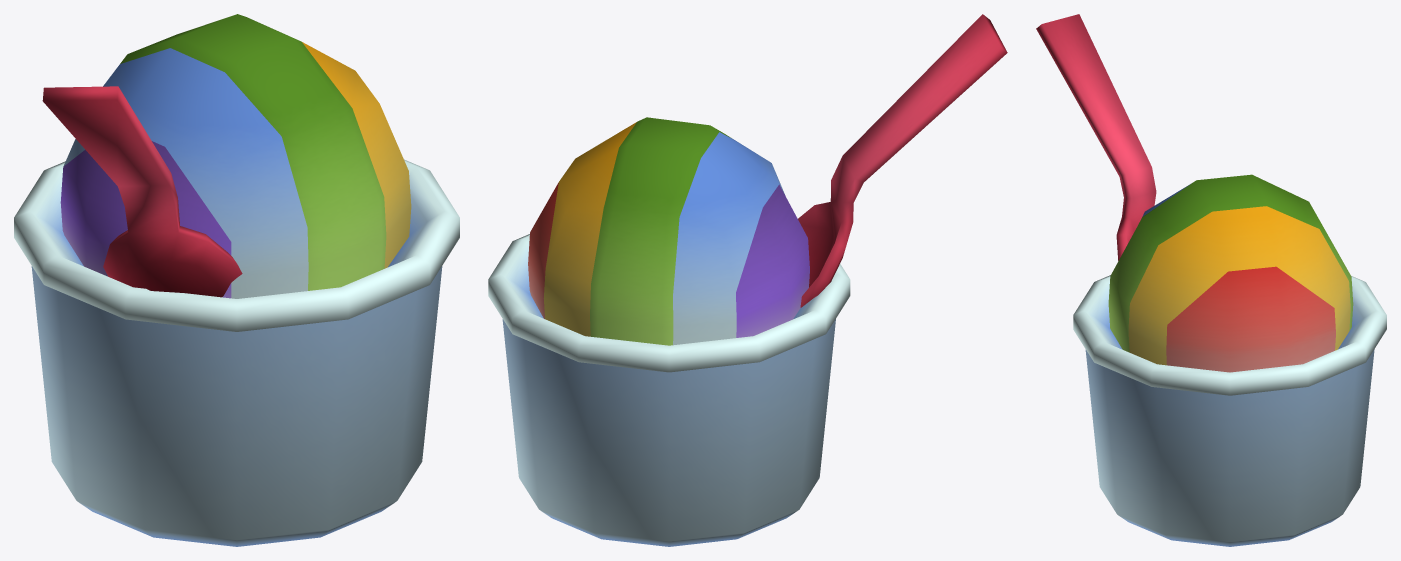
The model's file is m_ShavedIce06.fbx.
3 renders of one model, left to right at view 1: azimuth 30°, elevation 25°; view 2: azimuth 150°, elevation 25°; view 3: azimuth 270°, elevation 25°, orthographic. The views are drawn at different scales.
Parts seen in each view (by area): view 1: m_ShavedIce06; view 2: m_ShavedIce06; view 3: m_ShavedIce06.
Part boxes in pixels (box(x1,y1,x2,y2)): m_ShavedIce06: box(14, 14, 459, 546); m_ShavedIce06: box(488, 14, 1007, 546); m_ShavedIce06: box(1036, 14, 1386, 546).
Size of the model in its own units: 17.63 by 18.57 by 15.27.
